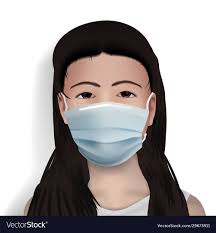flumask: (59, 102, 143, 161)
